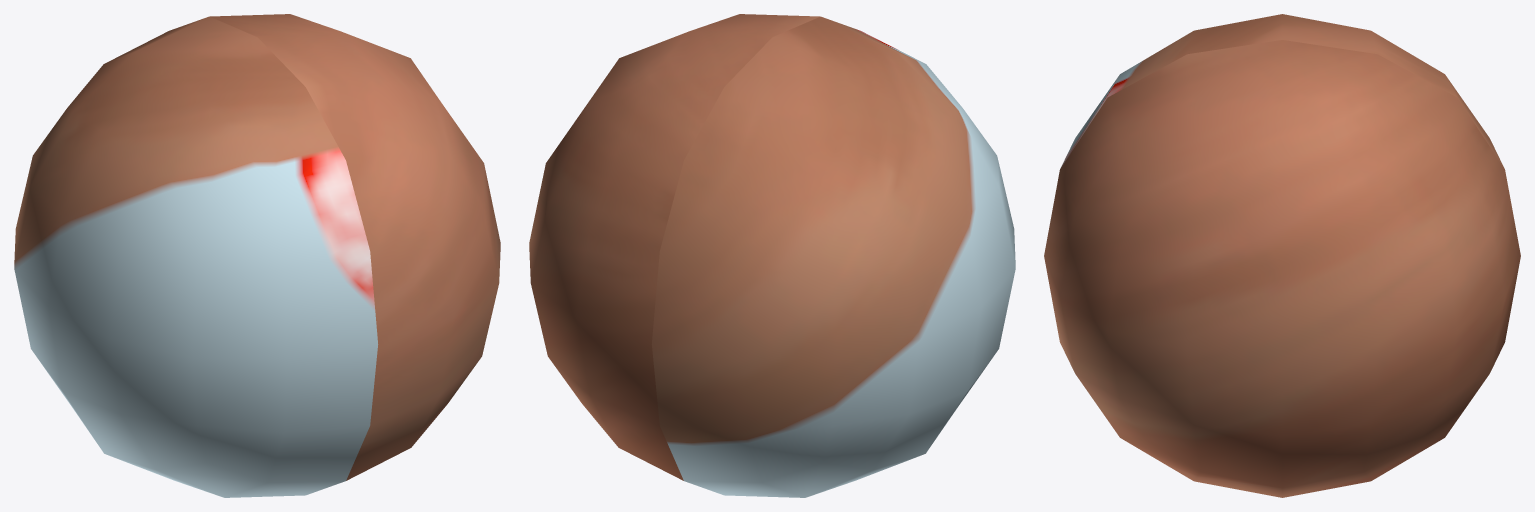
The model's file is BouncyBall.fbx.
3 views of the same model, side by side, from view 1: azimuth 30°, elevation 25°; view 2: azimuth 150°, elevation 25°; view 3: azimuth 270°, elevation 25° (orthographic).
Visible parts, largest first — view 1: BouncyBall; view 2: BouncyBall; view 3: BouncyBall.
Part boxes in pixels (x1,y1,x2,y2): BouncyBall: [14, 14, 500, 497]; BouncyBall: [529, 14, 1015, 497]; BouncyBall: [1044, 14, 1520, 497].
Bounding box in the file's own units: 29.17 × 29.17 × 29.17.
